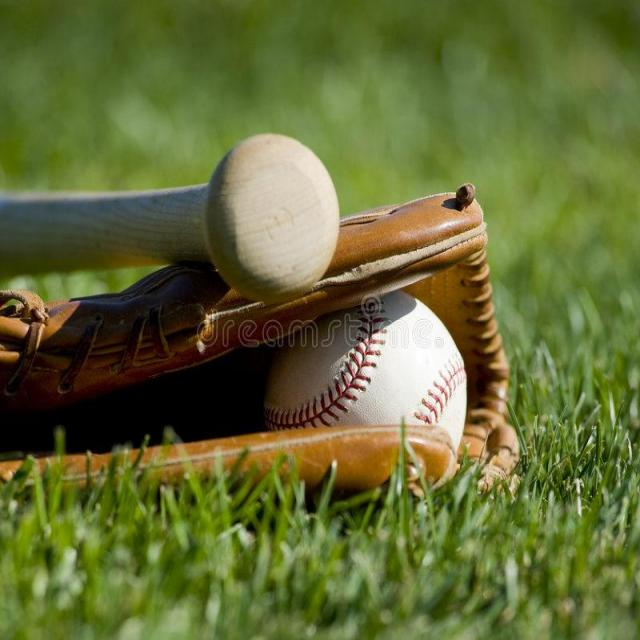baseball: (266, 288, 466, 452)
